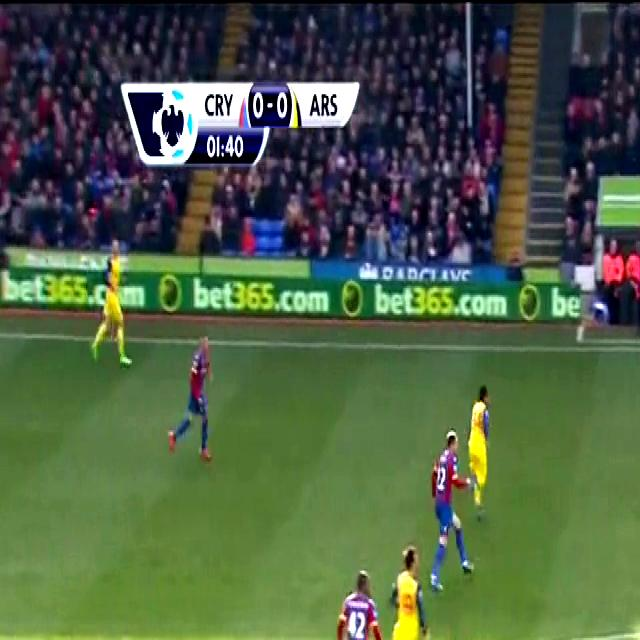soccer-player: (422, 416, 474, 590), (163, 327, 217, 474), (90, 234, 142, 376), (463, 387, 497, 526), (382, 547, 432, 640), (332, 565, 378, 640)
